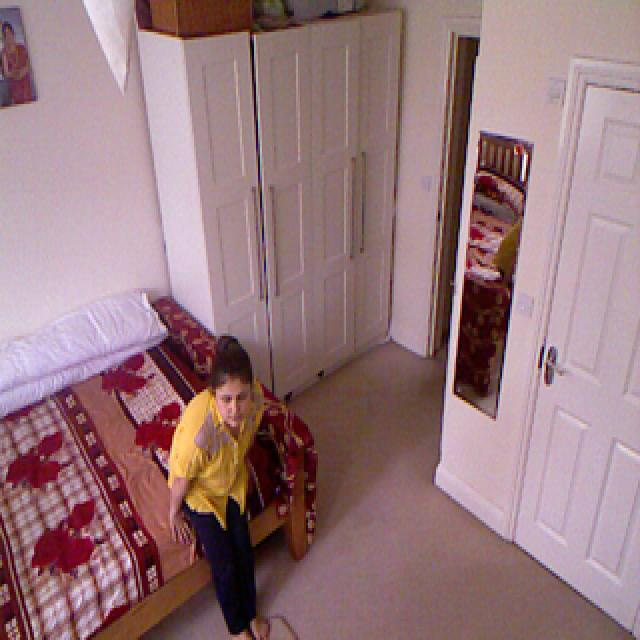sitting: (168, 336, 274, 640)
